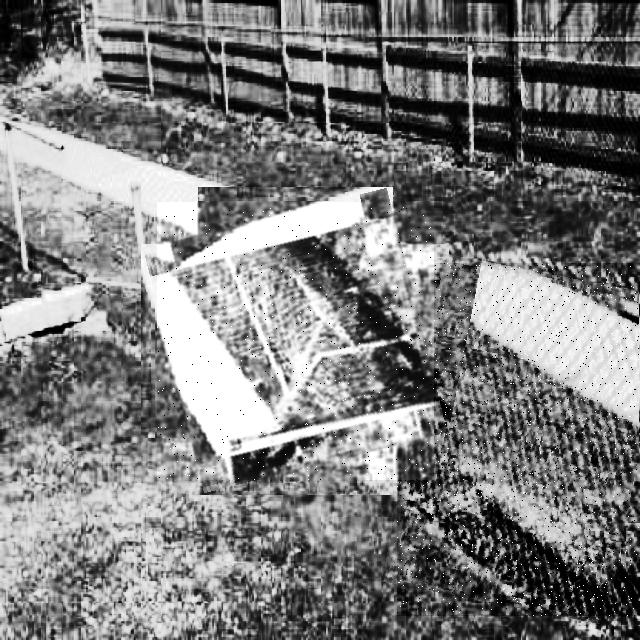anomaly-fence: (397, 263, 640, 616), (157, 202, 434, 480)
